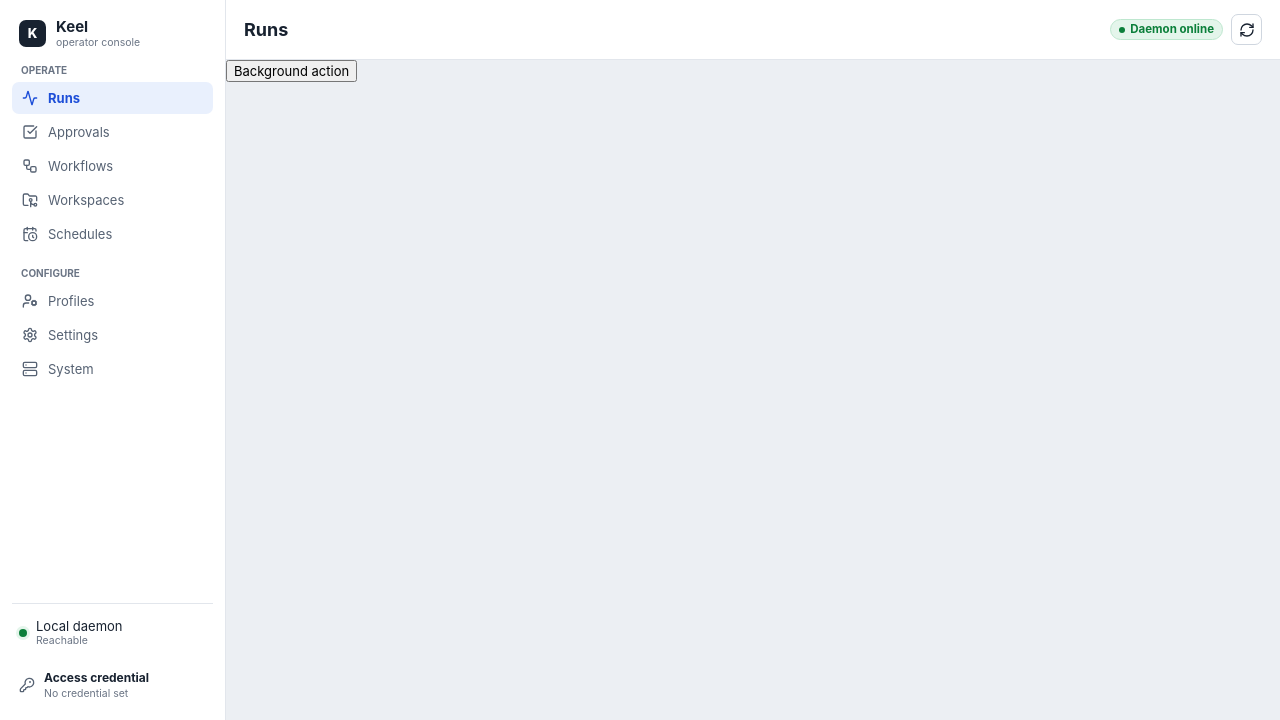
AppShell › traps and restores focus for access credential management
This screenshot has width=1280, height=720.
Step 1. Click the button "Access credential No credential set" → point(112, 685), box left=12, top=662, right=213, bottom=708
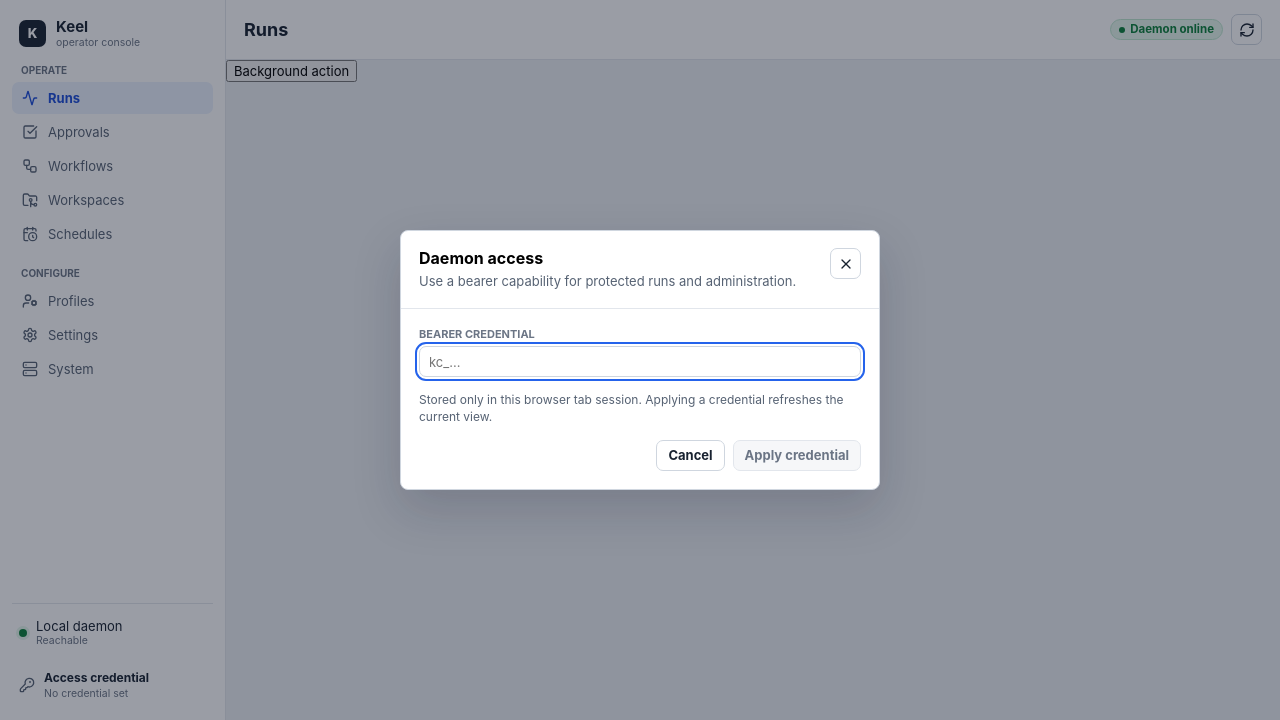
Step 2. Press Escape
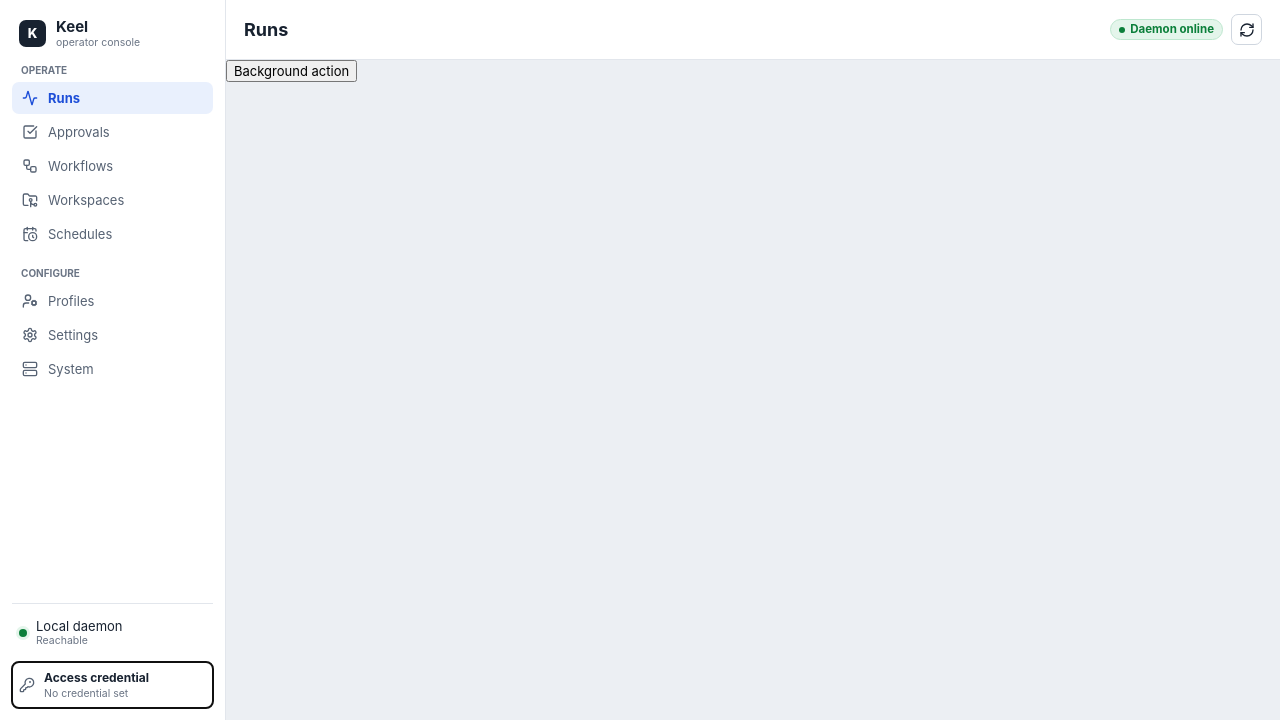
Check: the dialog is gone
